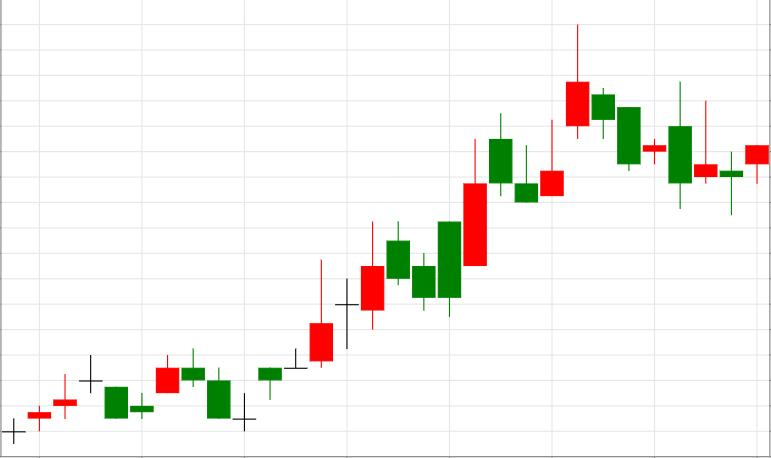shooting_star_fall: (309, 23, 590, 367)
